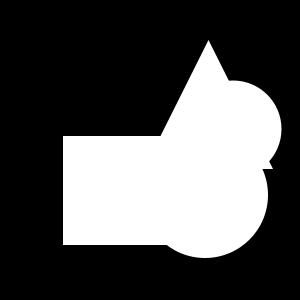circle: (63, 136, 172, 245)
rectangle: (142, 132, 268, 258), (184, 80, 282, 178), (199, 139, 239, 179)
triangle: (144, 40, 273, 169)
